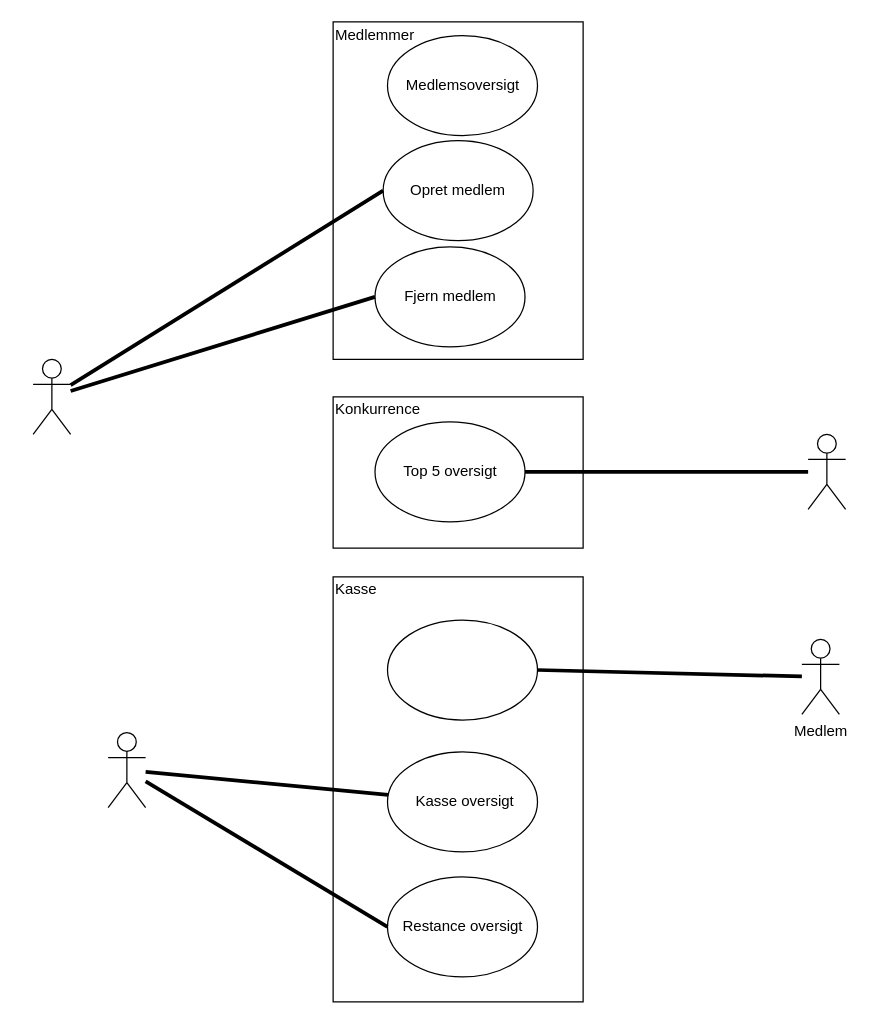
Image size: 873x1024. Some labels were removed from this diagram. Each missing label, with the centre of its shape:
Betal kontingent: [462,669]
Formand: [51,396]
Kasserer: [126,769]
Træner: [826,471]
